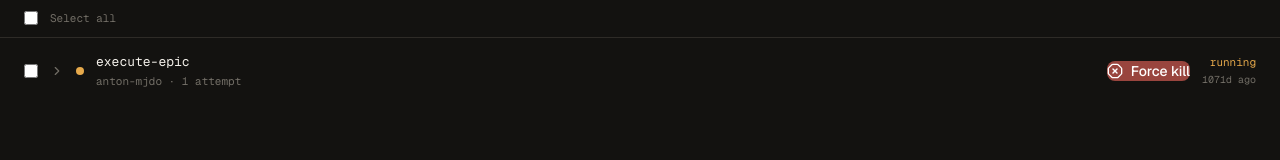
it: Bulk kill bar › falls back to the status code when the batch is rejected with an unreadable body
Click the checkbox labelled "Select all" at (31, 18), box [24, 11, 38, 25]
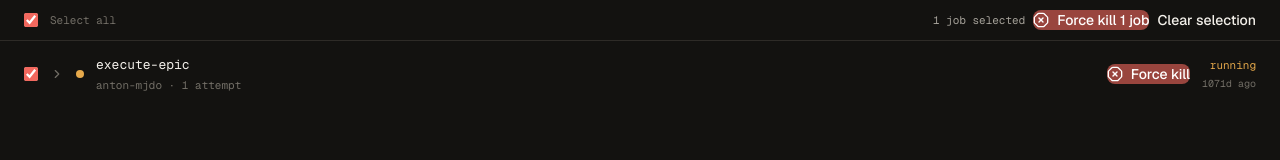
Click the button "Force kill 1 job" at (1091, 20), box [1033, 10, 1150, 30]
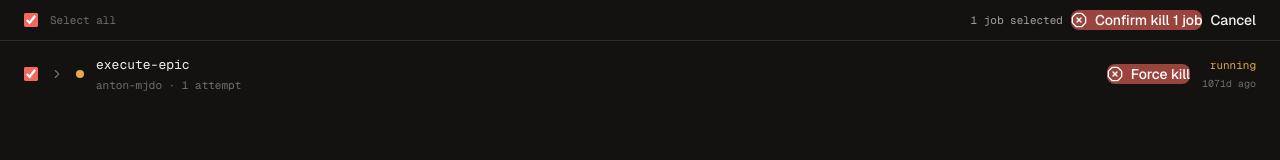
Click the button "Confirm kill 1 job" at (1137, 20), box [1071, 10, 1202, 30]
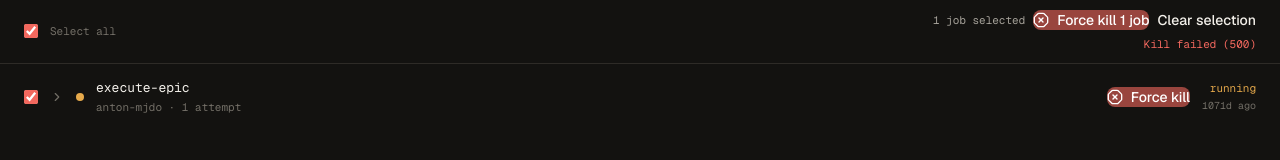
Check: the message shows "500", box [1144, 37, 1256, 51]
